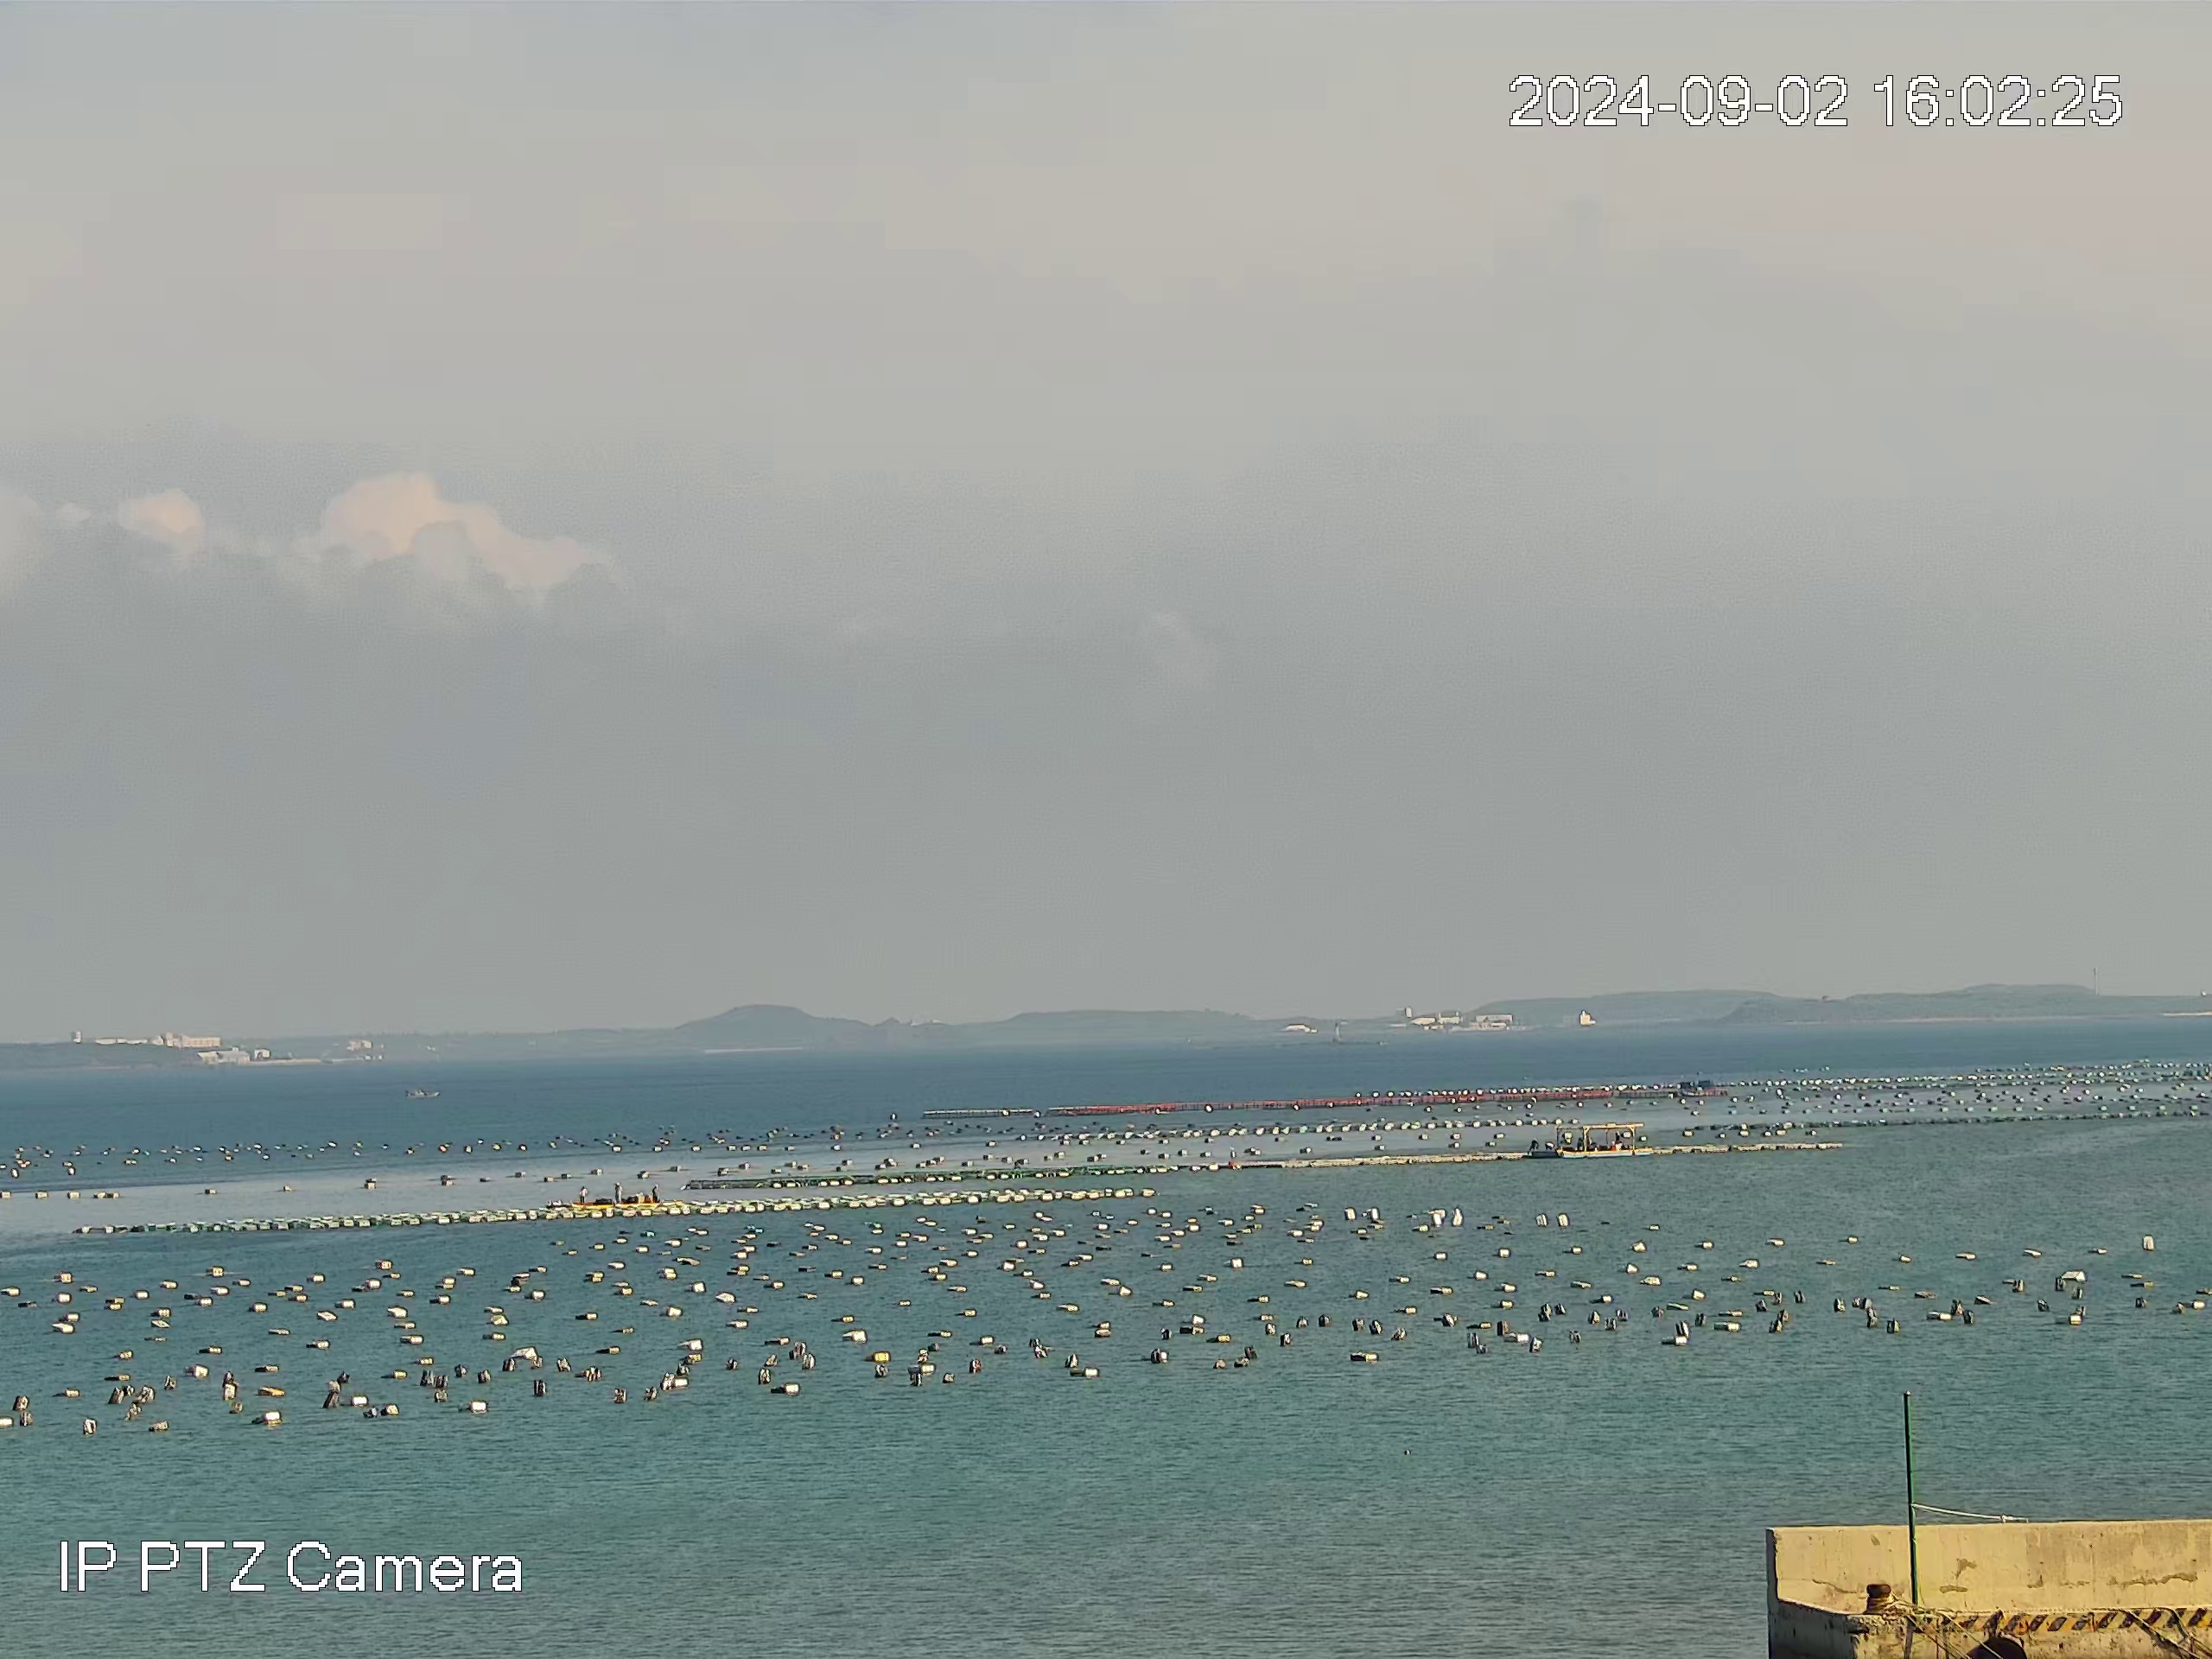boat: (1554, 1122, 1653, 1159), (570, 1182, 664, 1209), (404, 1087, 441, 1101)
